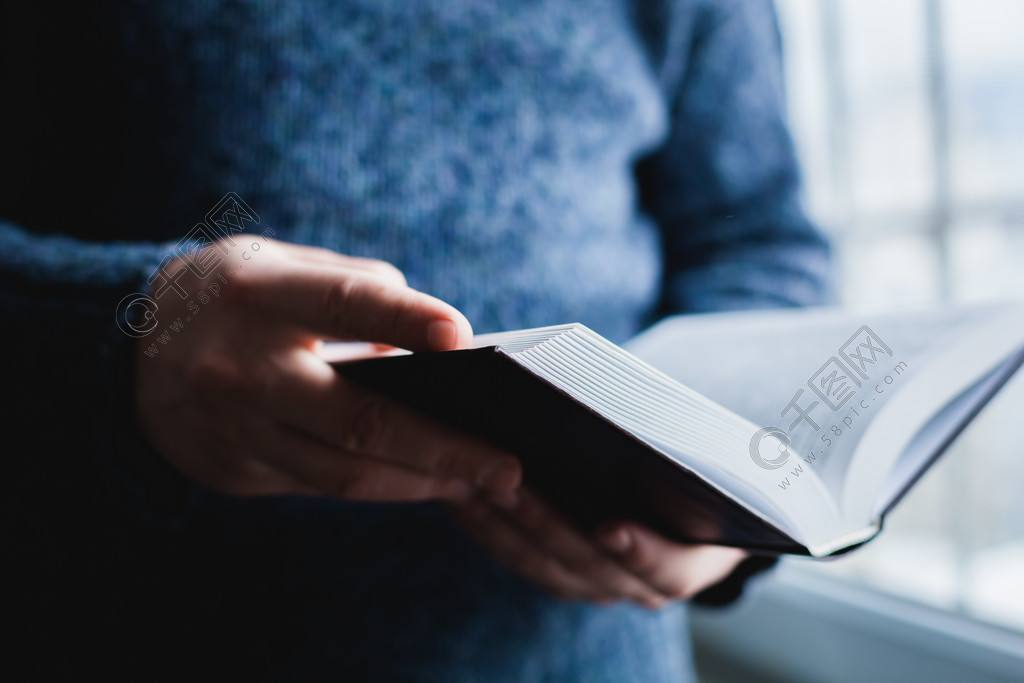book: (116, 219, 1024, 616)
